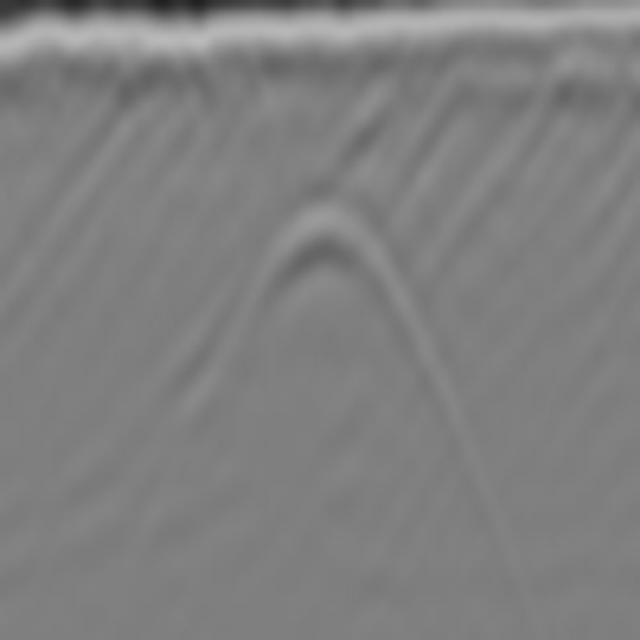hyperbola: (238, 194, 440, 389)
